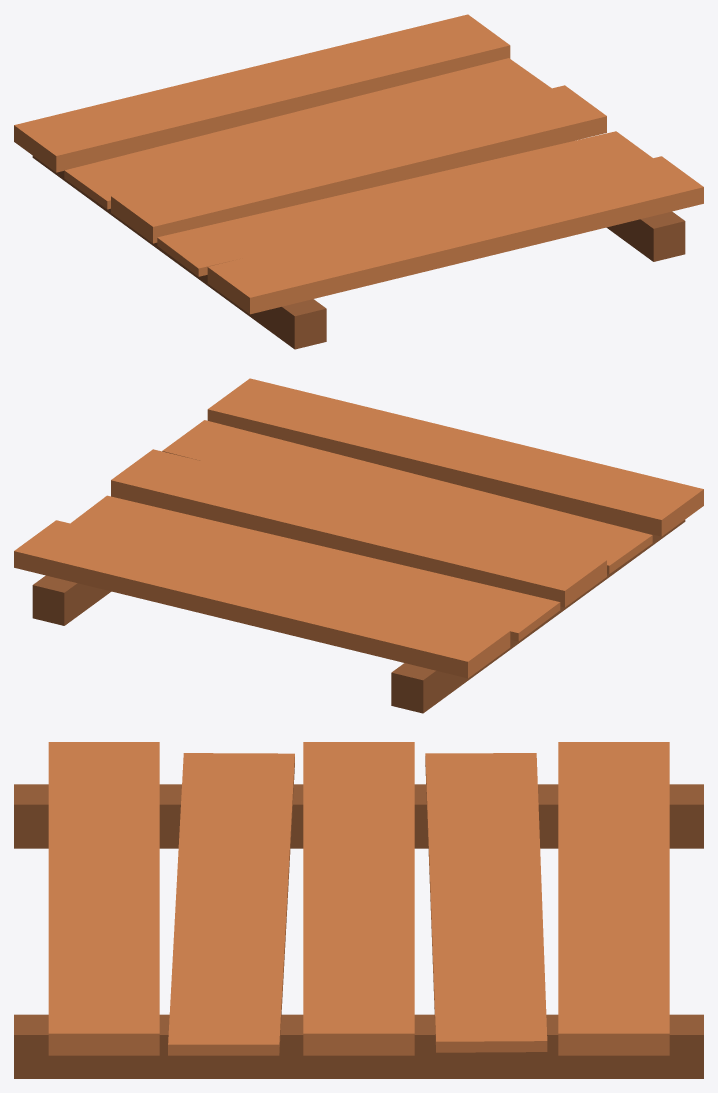
The model's file is platform.dae.
3 views of the same model, one above another, from view 1: azimuth 30°, elevation 25°; view 2: azimuth 150°, elevation 25°; view 3: azimuth 270°, elevation 25° (orthographic). The views are drawn at different scales.
Parts seen in each view (by area): view 1: platform; view 2: platform; view 3: platform.
Boxes of the visible parts, x1,y1,x2,y2 form: platform: (14,14,703,349); platform: (14,378,703,713); platform: (14,742,703,1078).
Bounding box in the file's own units: 1 × 0.105 × 1.
